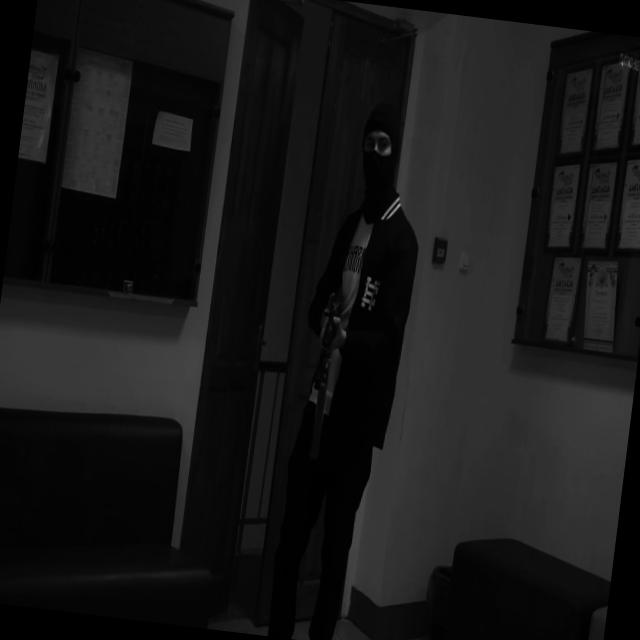gun: (312, 267, 348, 393)
person with a gun: (264, 95, 435, 640)
